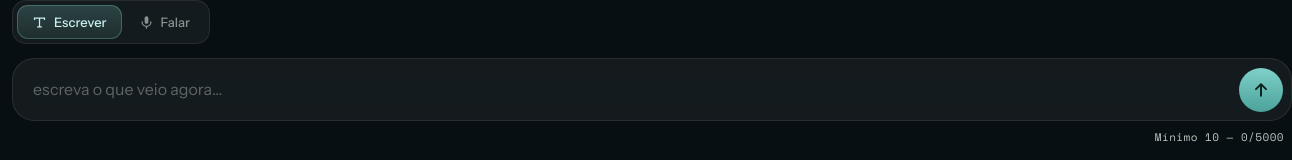
it: ChatComposer › quando o navegador não é compatível com reconhecimento de voz › mostra um aviso e nenhum botão de microfone no modo Falar
Click the button "Falar": {"x": 164, "y": 22} [124,5,205,39]
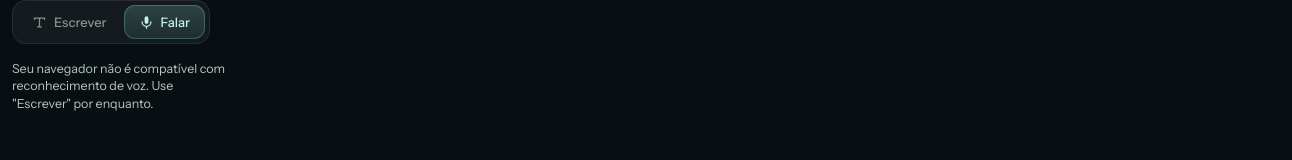
Expected: the text "não é compatível" is shown, [12,61,225,111]
